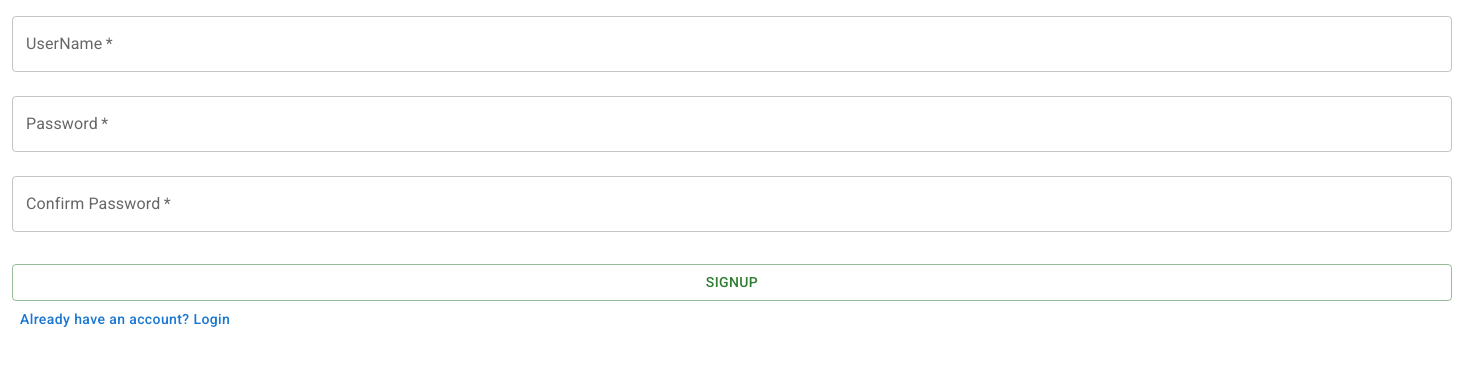
SignUp Component › displays error message for non-matching passwords
Type "password1" into the password field with test id "password-input".
click(732, 124); type("password1")  # box [12, 96, 1452, 152]
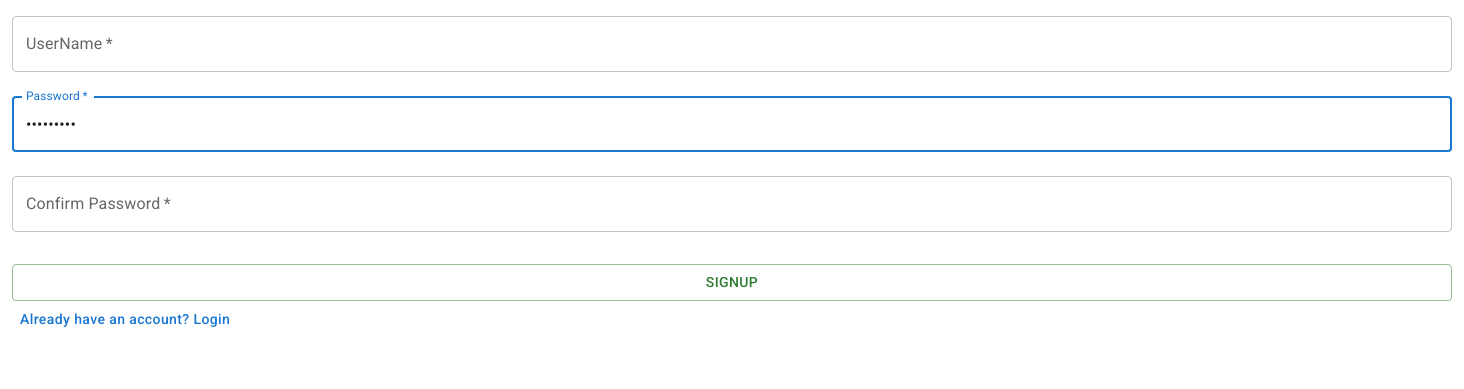
Type "password2" into the password field with test id "confirmPassword-input".
click(732, 204); type("password2")  # box [12, 176, 1452, 232]
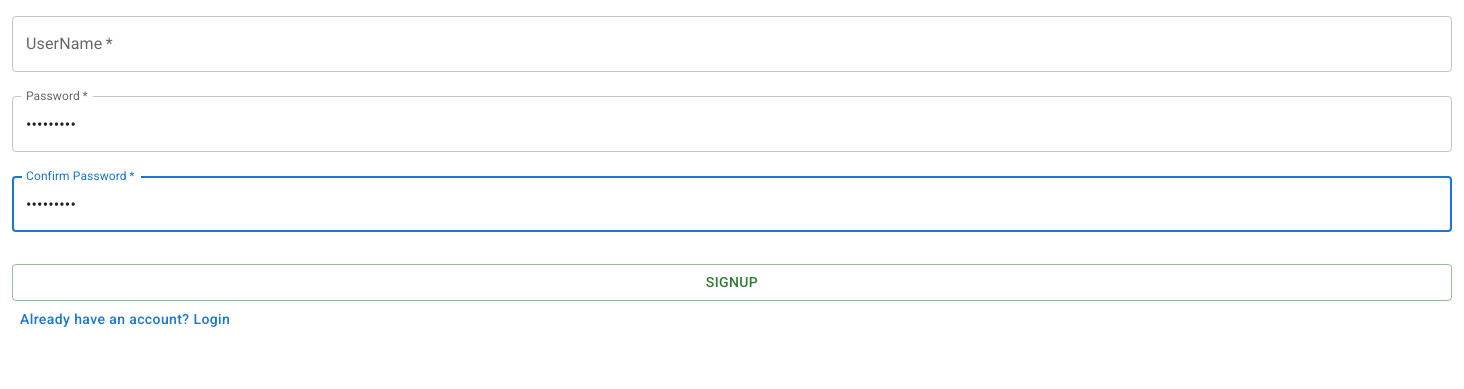
Click the button "SignUp".
click(732, 282)  # box [12, 264, 1452, 300]
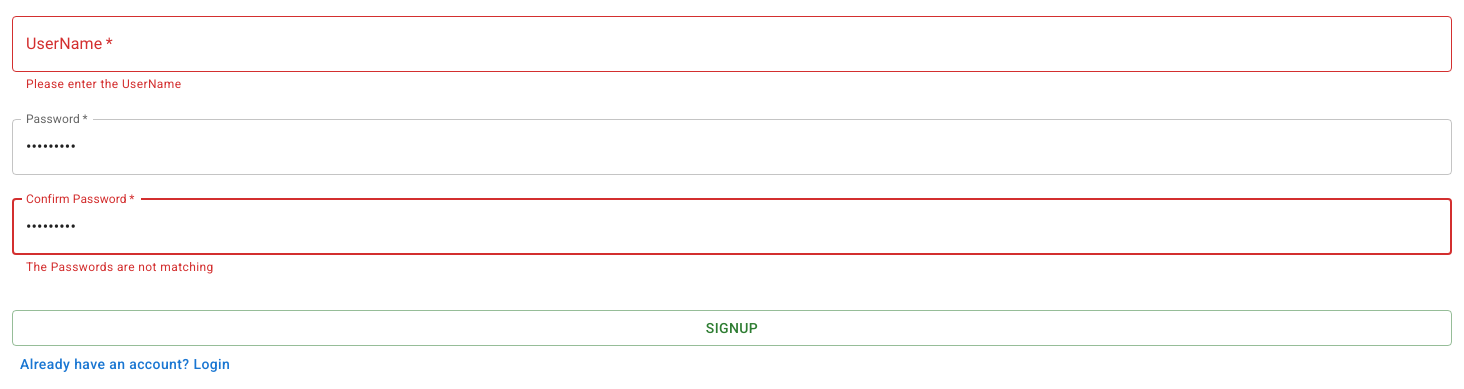
Check: the text "The Passwords are not matching" is shown, box [26, 260, 214, 274]
